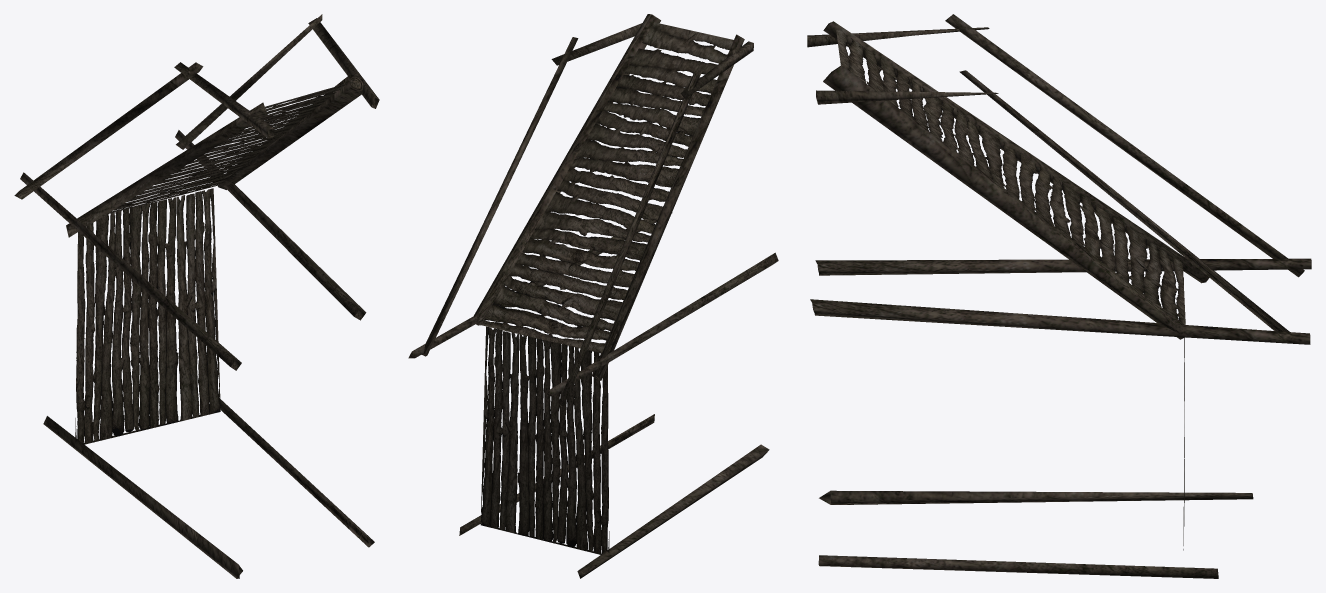
Rendered from MEP_Stairs_01_LOD_02.fbx.
3 views of the same model, side by side, from view 1: azimuth 30°, elevation 25°; view 2: azimuth 150°, elevation 25°; view 3: azimuth 270°, elevation 25° (orthographic). The views are drawn at different scales.
Parts seen in each view (by area): view 1: MEP_Stair_01_LOD_02; view 2: MEP_Stair_01_LOD_02; view 3: MEP_Stair_01_LOD_02.
Boxes of the visible parts, box(x1,y1,x2,y2) form: MEP_Stair_01_LOD_02: box(14, 14, 379, 578); MEP_Stair_01_LOD_02: box(408, 14, 778, 578); MEP_Stair_01_LOD_02: box(807, 14, 1311, 578).
Size of the model in its own units: 3.27 by 8.2 by 7.32.
